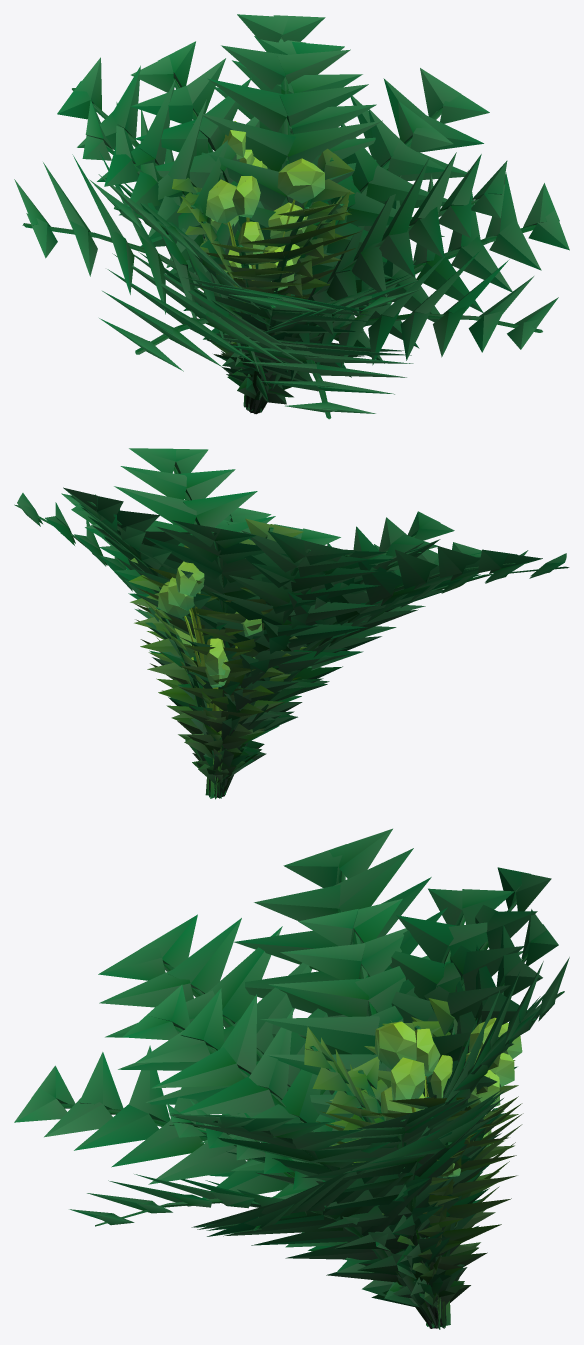
The model's file is vegetasi_fern_emerald_550533.glb.
The picture shows the model from 3 angles, top to bottom: view 1: azimuth 30°, elevation 25°; view 2: azimuth 150°, elevation 25°; view 3: azimuth 270°, elevation 25°; orthographic projection. The views are drawn at different scales.
Parts seen in each view (by area): view 1: Pakis_Tropis_Sungai; view 2: Pakis_Tropis_Sungai; view 3: Pakis_Tropis_Sungai.
Boxes of the visible parts, x1,y1,x2,y2 form: Pakis_Tropis_Sungai: (14, 14, 569, 419); Pakis_Tropis_Sungai: (14, 448, 569, 799); Pakis_Tropis_Sungai: (14, 828, 569, 1329).
Bounding box in the file's own units: 2.62 × 1.72 × 2.2.
